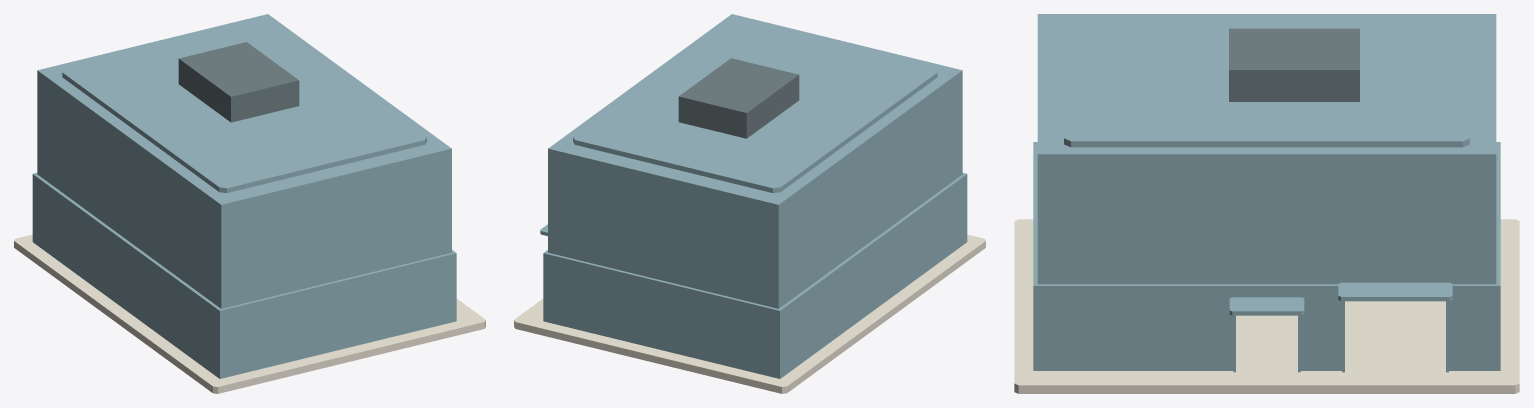
The model's file is Security_Precinct_v4_ShadowProxy.glb.
3 renders of one model, left to right at view 1: azimuth 30°, elevation 25°; view 2: azimuth 150°, elevation 25°; view 3: azimuth 270°, elevation 25°, orthographic. The views are drawn at different scales.
Visible parts, largest first — view 1: Security_Precinct_v4_ShadowProxy / Structure, Security_Precinct_v4_ShadowProxy / Roof, Security_Precinct_v4_ShadowProxy / Foundation; view 2: Security_Precinct_v4_ShadowProxy / Structure, Security_Precinct_v4_ShadowProxy / Roof, Security_Precinct_v4_ShadowProxy / Foundation; view 3: Security_Precinct_v4_ShadowProxy / Structure, Security_Precinct_v4_ShadowProxy / Roof, Security_Precinct_v4_ShadowProxy / Foundation, Security_Precinct_v4_ShadowProxy / Entrance modules.
Boxes of the visible parts, <box> form: Security_Precinct_v4_ShadowProxy / Structure: <box>32,14,456,378</box>; Security_Precinct_v4_ShadowProxy / Roof: <box>62,21,426,192</box>; Security_Precinct_v4_ShadowProxy / Foundation: <box>14,234,485,393</box>; Security_Precinct_v4_ShadowProxy / Structure: <box>543,14,967,378</box>; Security_Precinct_v4_ShadowProxy / Roof: <box>573,21,937,192</box>; Security_Precinct_v4_ShadowProxy / Foundation: <box>514,234,985,393</box>; Security_Precinct_v4_ShadowProxy / Structure: <box>1033,14,1500,370</box>; Security_Precinct_v4_ShadowProxy / Roof: <box>1064,15,1469,147</box>; Security_Precinct_v4_ShadowProxy / Foundation: <box>1014,219,1519,393</box>; Security_Precinct_v4_ShadowProxy / Entrance modules: <box>1229,282,1452,388</box>.
Bounding box in the file's own units: 14 × 10.28 × 18.
